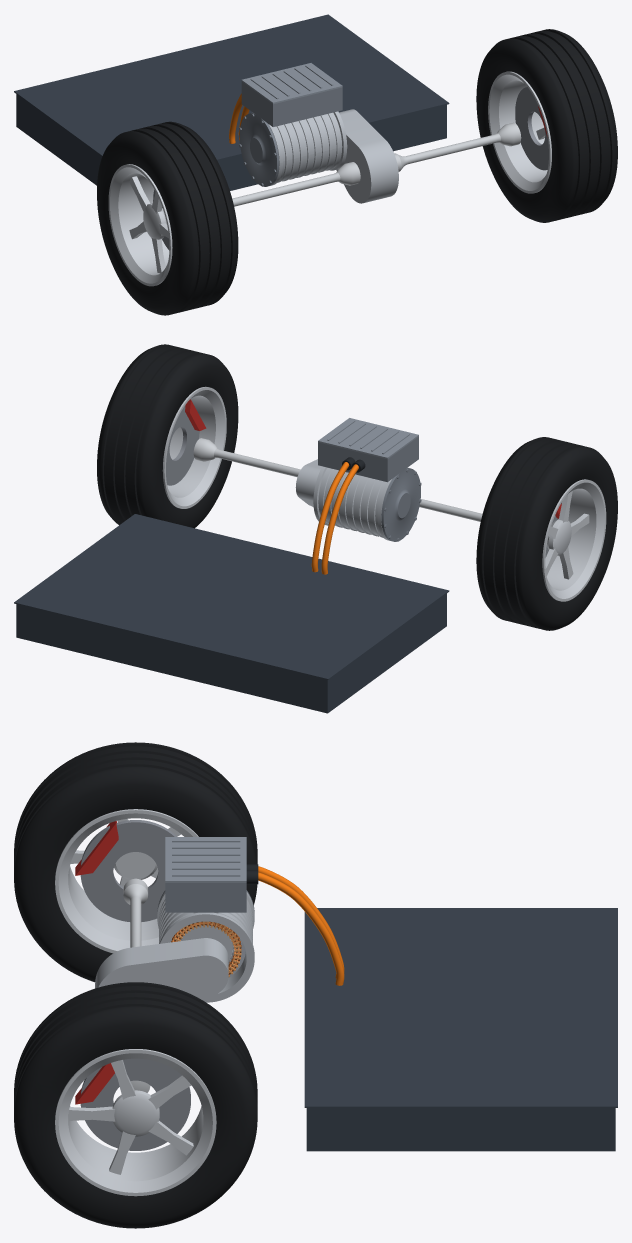
The model's file is ev_drive.glb.
3 views of the same model, one above another, from view 1: azimuth 30°, elevation 25°; view 2: azimuth 150°, elevation 25°; view 3: azimuth 270°, elevation 25° (orthographic). The views are drawn at different scales.
Parts seen in each view (by area): view 1: Batt_lid, Tyre_L, Tyre_R, Batt_tray, Rim_L, Rim_R, Case_q, Reducer_case, Inv_base, Inv_lid, Cap_rear, Disc_R (+4 smaller); view 2: Batt_lid, Tyre_L, Tyre_R, Batt_tray, Rim_L, Rim_R, Case_main, Inv_lid, Cap_rear, Inv_base, Disc_R, HS_R (+4 smaller); view 3: Batt_lid, Tyre_R, Tyre_L, Batt_tray, Rim_R, Rim_L, Disc_L, Reducer_cover, Disc_R, Inv_lid, Inv_base, Case_main (+8 smaller).
Part boxes in pixels (x1,y1,x2,y2): Batt_lid: (14, 14, 449, 160); Tyre_L: (97, 121, 238, 315); Tyre_R: (476, 29, 617, 222); Batt_tray: (16, 94, 446, 190); Rim_L: (108, 164, 172, 286); Rim_R: (488, 71, 551, 193); Case_q: (268, 111, 347, 163); Reducer_case: (336, 112, 387, 203); Inv_base: (241, 81, 342, 126); Inv_lid: (241, 63, 342, 104); Cap_rear: (239, 113, 279, 186); Disc_R: (515, 87, 548, 170); Batt_lid: (14, 514, 449, 679); Tyre_L: (476, 437, 617, 630); Tyre_R: (97, 344, 238, 528); Batt_tray: (16, 593, 446, 713); Rim_L: (542, 479, 606, 601); Rim_R: (162, 386, 226, 508); Case_main: (313, 466, 392, 540); Inv_lid: (318, 418, 418, 459); Cap_rear: (381, 468, 421, 541); Inv_base: (318, 436, 418, 482); Disc_R: (166, 405, 199, 485); HS_R: (193, 438, 300, 476); Batt_lid: (304, 908, 617, 1107); Tyre_R: (14, 982, 257, 1228); Tyre_L: (14, 742, 257, 982); Batt_tray: (306, 1108, 615, 1151); Rim_R: (55, 1049, 216, 1196); Rim_L: (55, 809, 198, 953); Disc_L: (80, 820, 176, 921); Reducer_cover: (95, 948, 228, 1002); Disc_R: (80, 1058, 190, 1150); Inv_lid: (165, 837, 246, 882); Inv_base: (165, 883, 246, 912); Case_main: (157, 892, 254, 1002).
Size of the model in its own units: 1.79 by 0.67 by 1.66.
27 materials, 1 textured.
